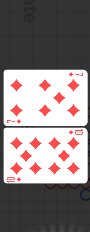10D: (68, 128, 85, 135)
7D: (68, 71, 84, 77)
